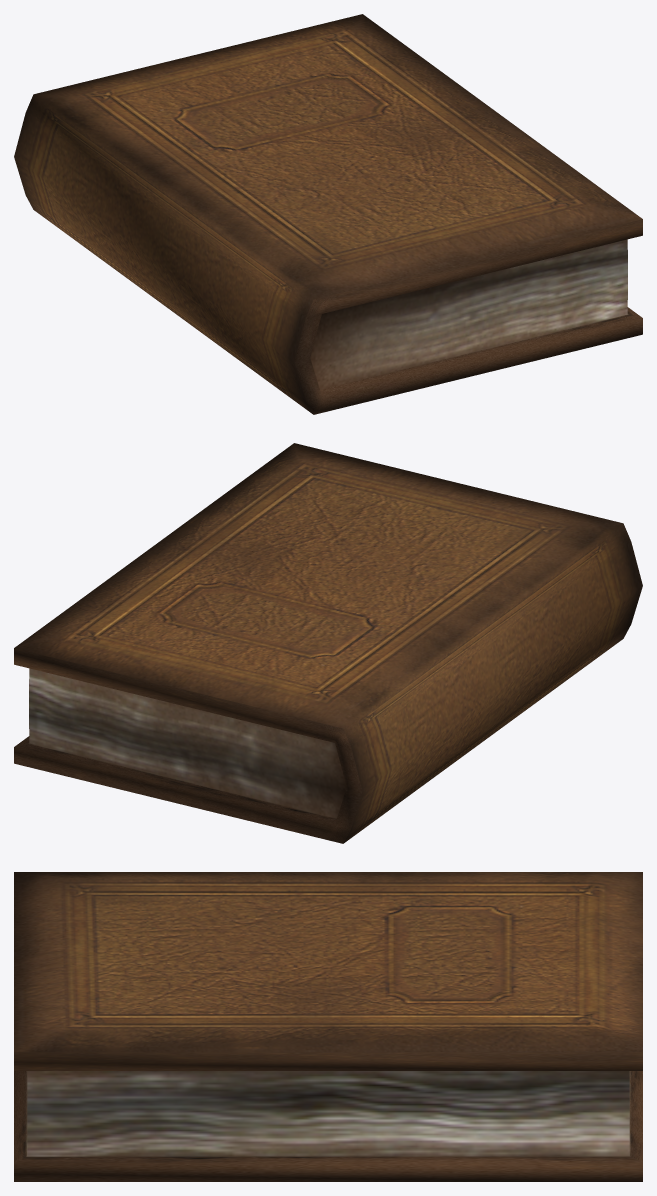
Rendered from book.obj.
3 renders of one model, top to bottom at view 1: azimuth 30°, elevation 25°; view 2: azimuth 150°, elevation 25°; view 3: azimuth 270°, elevation 25°, orthographic. The views are drawn at different scales.
Visible parts, largest first — view 1: book_Cube.001; view 2: book_Cube.001; view 3: book_Cube.001.
Part boxes in pixels (bbox=[...]): book_Cube.001: bbox=[14, 14, 642, 414]; book_Cube.001: bbox=[14, 443, 642, 843]; book_Cube.001: bbox=[14, 872, 642, 1181].
Size of the model in its own units: 0.1581 by 0.0559 by 0.22.
